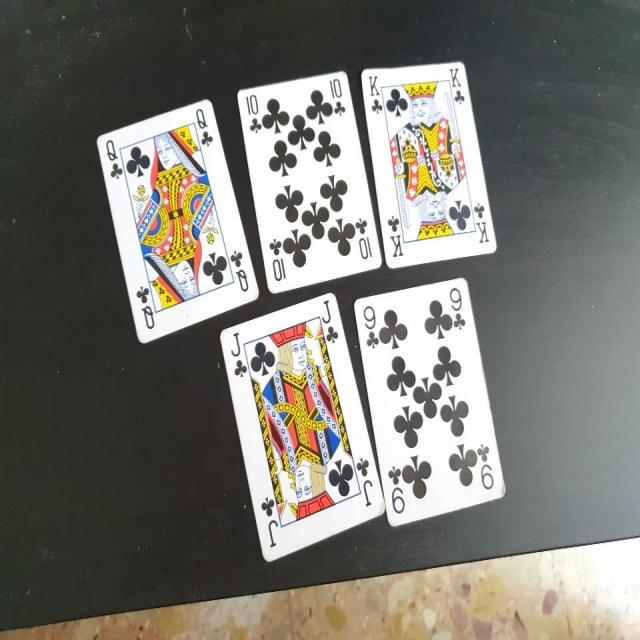10 Trefoils: (236, 67, 384, 290)
9 Trefoils: (350, 272, 507, 527)
J Trefoils: (218, 289, 384, 564)
K Trefoils: (359, 57, 499, 267)
Q Trefoils: (96, 98, 262, 346)
